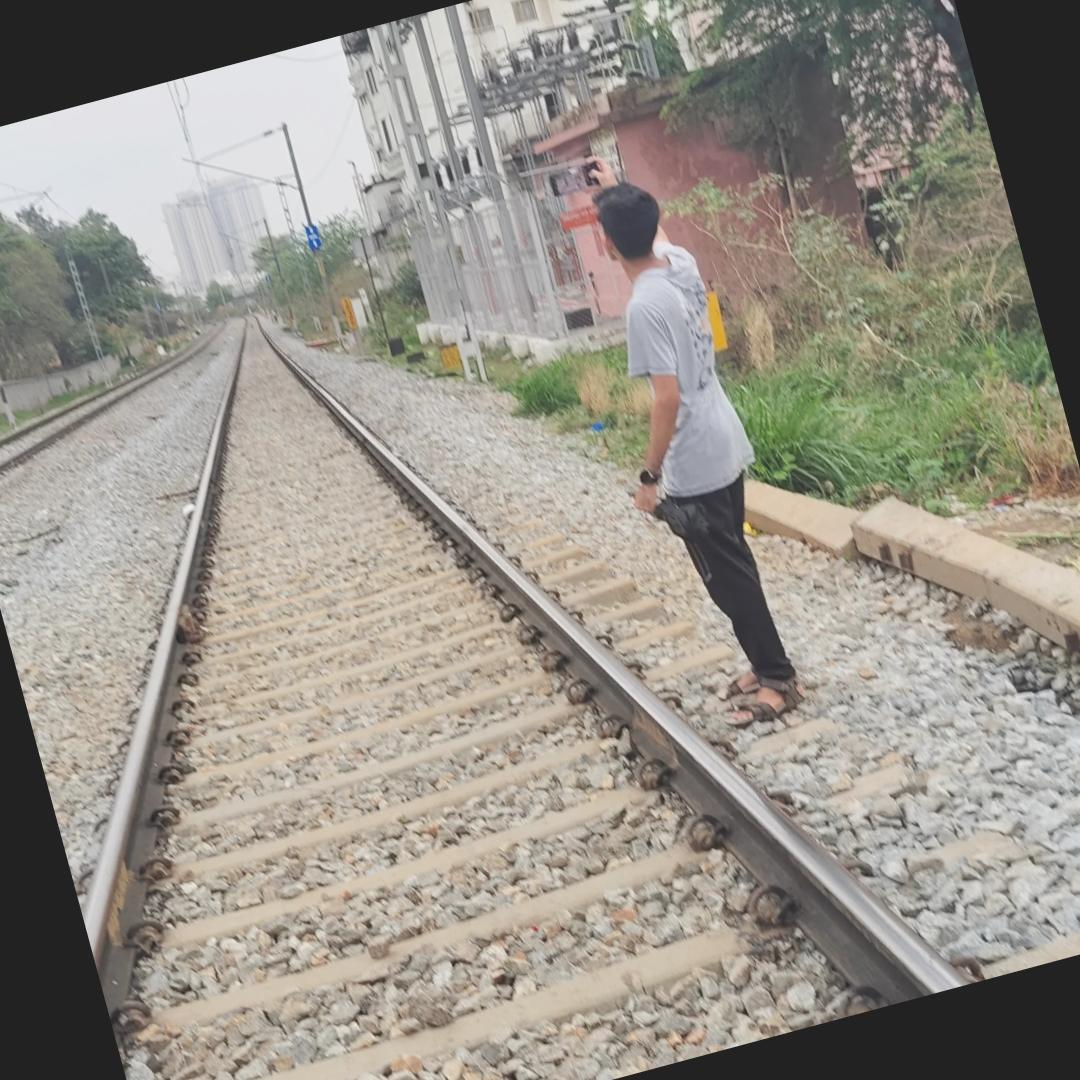standing: (548, 112, 874, 769)
track: (65, 300, 1080, 1080)
